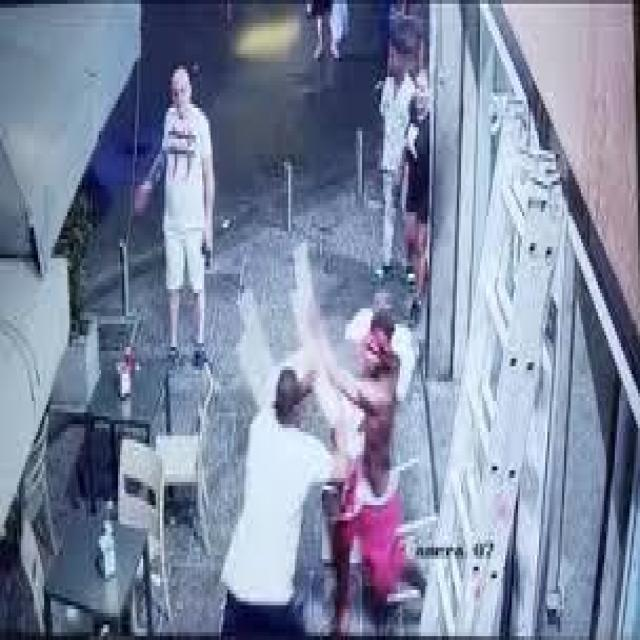fight: (245, 245, 428, 638), (130, 62, 224, 358)
